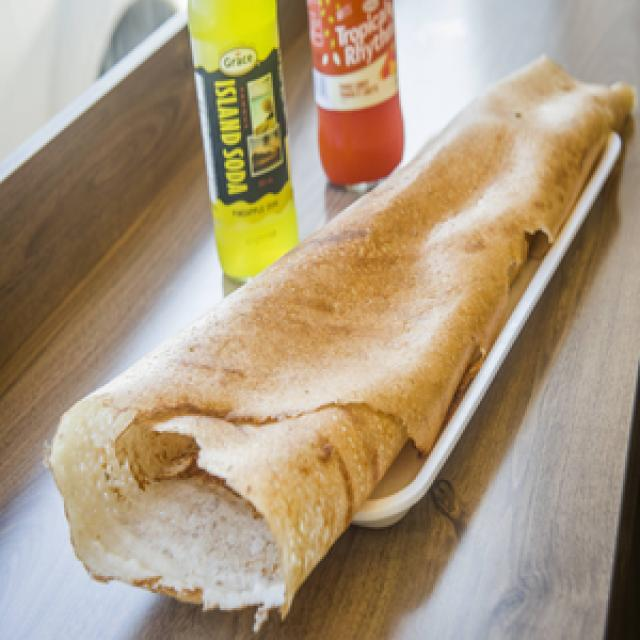dosa: (37, 43, 640, 638)
